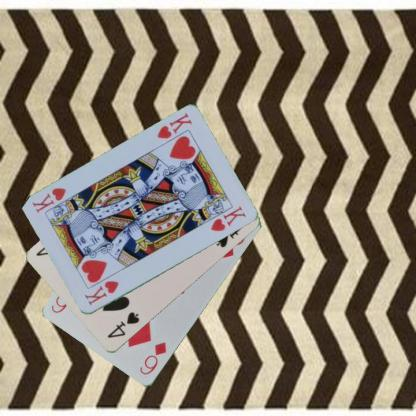4s: (105, 309, 141, 340)
6d: (137, 339, 168, 377)
Kh: (154, 110, 194, 141), (82, 278, 120, 307)
